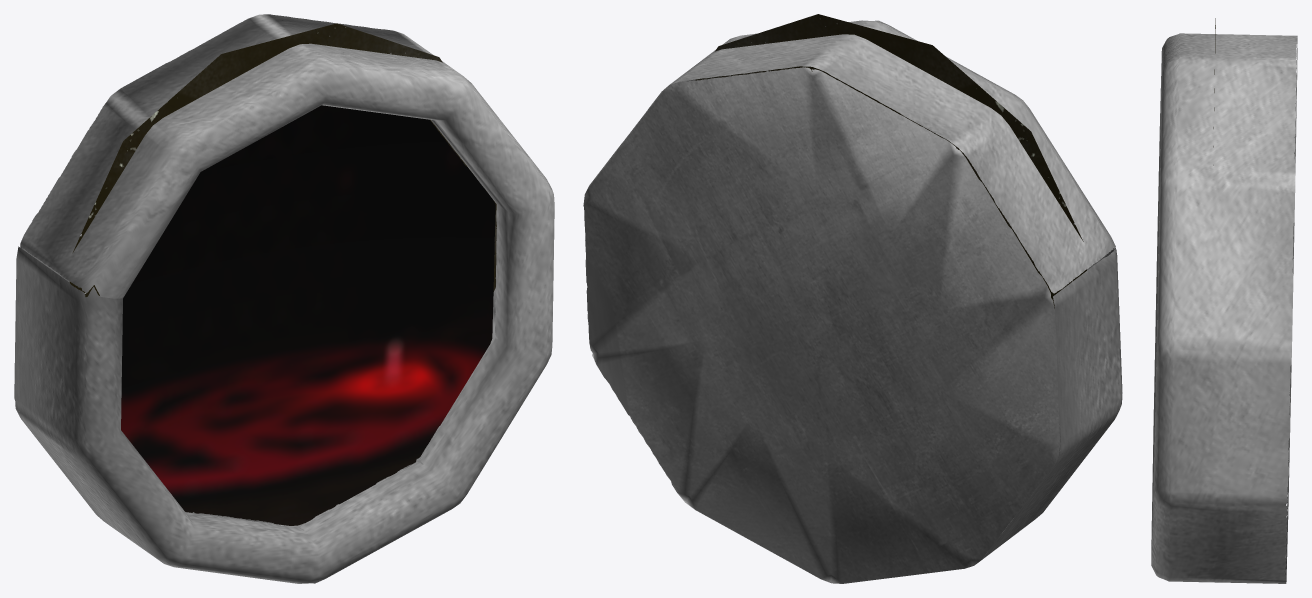
The model's file is olho muito magico.fbx.
The picture shows the model from 3 angles, left to right: view 1: azimuth 30°, elevation 25°; view 2: azimuth 150°, elevation 25°; view 3: azimuth 270°, elevation 25°; orthographic projection. The views are drawn at different scales.
Visible parts, largest first — view 1: pCylinder1, pDisc1; view 2: pCylinder1, pDisc1; view 3: pCylinder1.
Boxes of the visible parts, bbox=[...] form: pCylinder1: bbox=[14, 14, 554, 583]; pDisc1: bbox=[69, 23, 496, 296]; pCylinder1: bbox=[583, 20, 1122, 583]; pDisc1: bbox=[695, 14, 1086, 308]; pCylinder1: bbox=[1151, 33, 1297, 583].
Size of the model in its own units: 0.169 by 0.1793 by 0.046.
2 materials, 2 textured.
